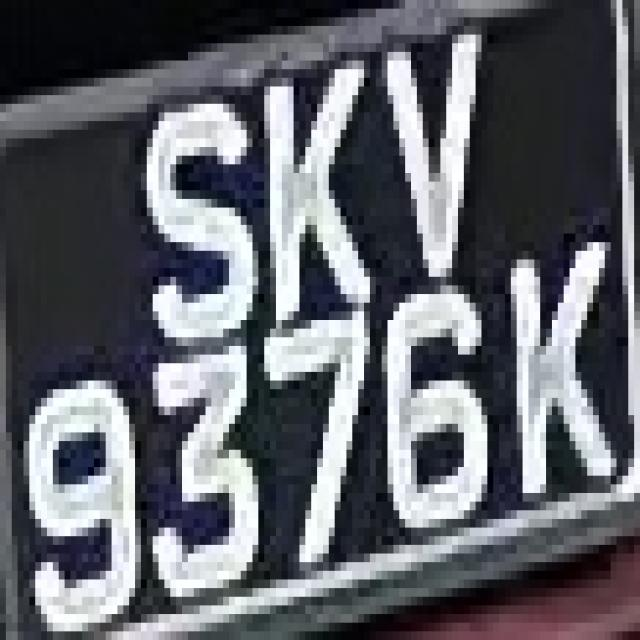3: (135, 312, 270, 632)
6: (370, 260, 487, 562)
7: (258, 312, 370, 580)
9: (0, 0, 640, 640), (22, 365, 138, 640)
K: (482, 216, 616, 519), (241, 52, 364, 320)
S: (124, 69, 258, 355)
V: (364, 26, 499, 294)
